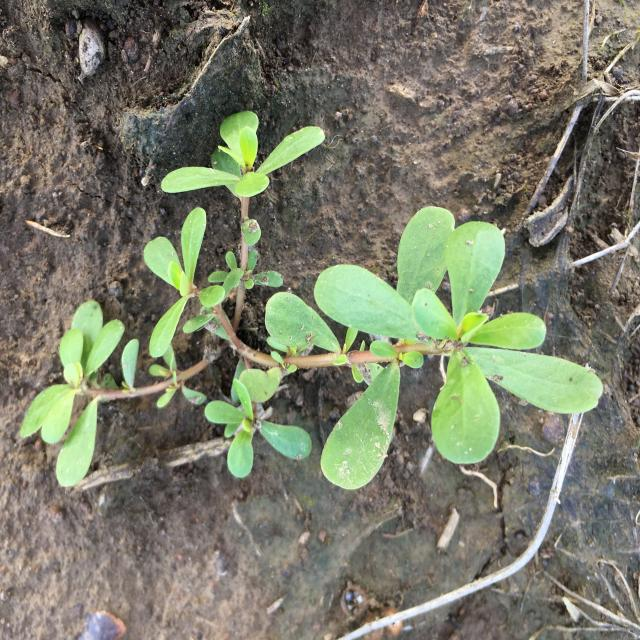Purslane: (20, 111, 603, 490)
